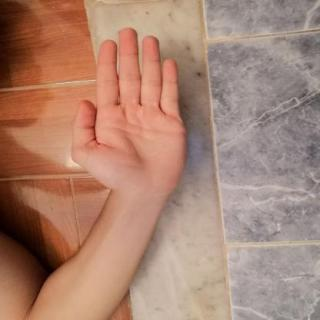SEEN: (61, 20, 201, 200)
